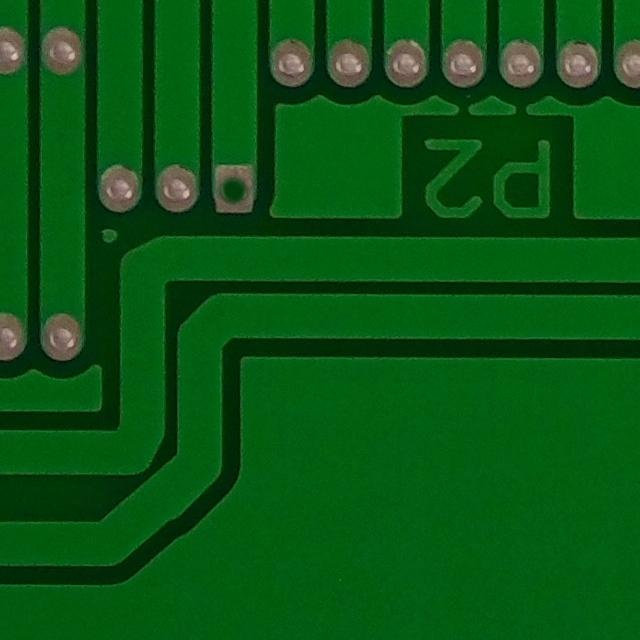missing_hole: (204, 157, 264, 224)
